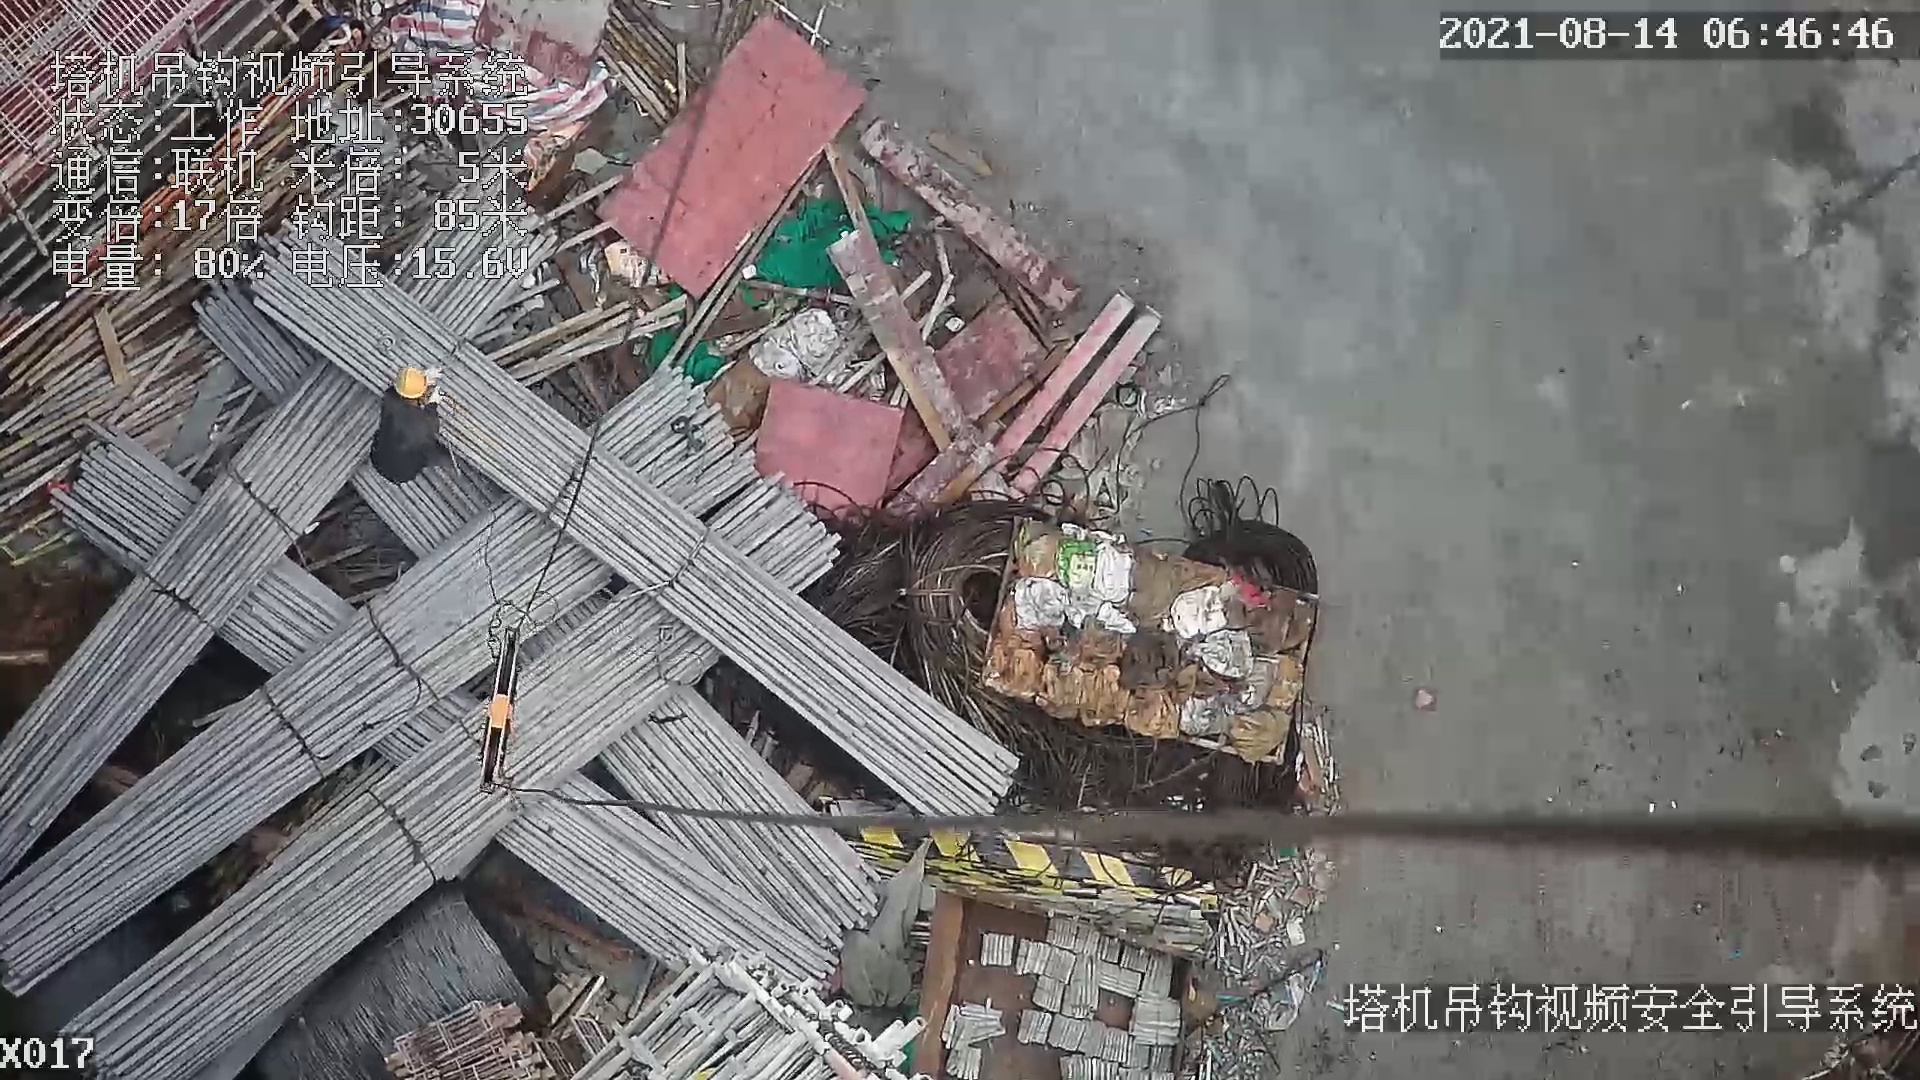board: (595, 15, 858, 295)
helmet: (392, 368, 426, 397)
hook: (469, 627, 526, 800)
person: (359, 356, 463, 487)
